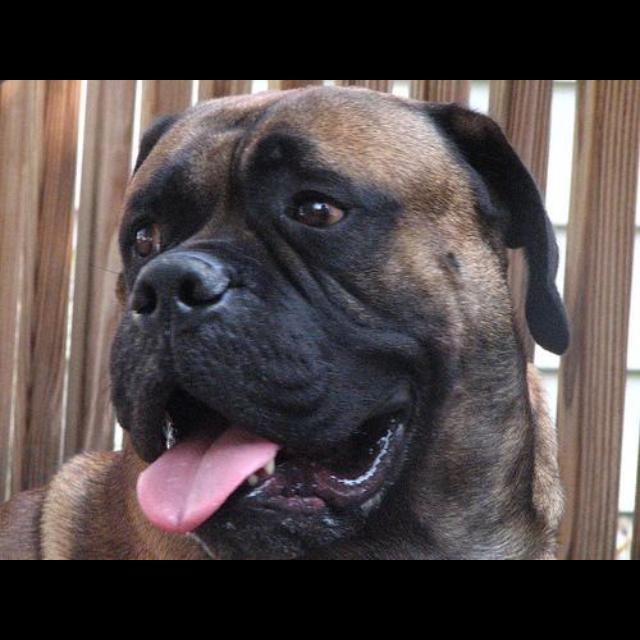bullmastiff: (1, 85, 571, 559)
